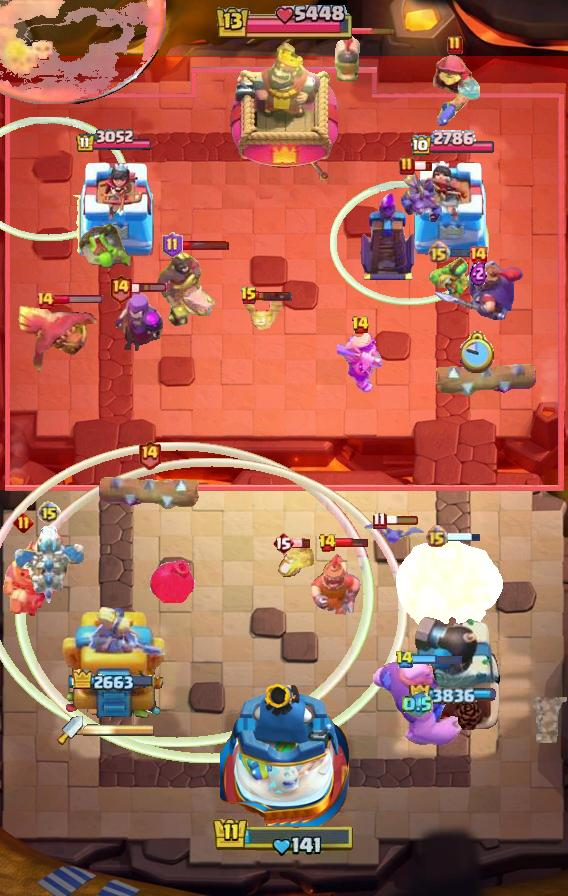arrows: (337, 330, 383, 394)
baby-dragon: (149, 557, 195, 602)
balloon: (370, 656, 464, 748)
bar: (60, 607, 168, 731)
bar-level: (77, 221, 135, 269)
barbarian: (361, 520, 425, 546)
clock: (212, 816, 356, 858), (213, 5, 355, 43)
earthquake: (311, 547, 363, 615)
electro-spirit: (402, 690, 433, 717), (469, 260, 486, 286)
elixir: (460, 331, 496, 373)
elixir-golem-big: (432, 259, 524, 323)
emote: (411, 653, 463, 666), (52, 294, 104, 305), (180, 241, 230, 252), (343, 25, 397, 35), (132, 282, 169, 294), (255, 290, 292, 302), (384, 514, 420, 526), (449, 246, 484, 258), (334, 537, 369, 549), (446, 530, 481, 541), (413, 160, 433, 172), (292, 539, 312, 550)
executioner: (332, 27, 362, 83)
fireball: (430, 53, 480, 129)
fisherman: (530, 697, 568, 743)
freeze: (156, 250, 218, 330)
giant-skeleton: (394, 534, 504, 628)
giant-snowball: (429, 257, 477, 301)
ice-spirit-evolution: (240, 297, 282, 331), (278, 548, 316, 578)
ice-spirit-evolution-symbol: (358, 190, 418, 282)
king-tower: (219, 678, 349, 826), (230, 43, 338, 181)
king-tower-bar: (83, 723, 155, 737)
mini-pekka: (12, 526, 86, 610)
minion: (435, 359, 538, 397), (99, 472, 202, 510)
mother-witch: (15, 298, 101, 382)
phoenix-egg: (0, 0, 166, 104)
queen-tower: (407, 158, 499, 256), (69, 158, 159, 256)
ram-rider: (0, 537, 62, 619)
rascal-girl: (110, 291, 164, 351)
royal-delivery: (399, 169, 443, 225)
selected: (410, 130, 496, 158), (72, 670, 156, 695), (75, 129, 153, 154), (409, 685, 497, 704)
text: (108, 273, 133, 304), (138, 438, 163, 469), (37, 501, 61, 525), (427, 240, 450, 264), (162, 232, 183, 258), (425, 524, 448, 547), (272, 531, 294, 555), (14, 511, 35, 532), (468, 245, 488, 265), (35, 290, 55, 310), (351, 315, 370, 335), (319, 533, 338, 553), (240, 286, 258, 306), (395, 651, 414, 669), (447, 35, 463, 55), (399, 156, 415, 176), (373, 511, 387, 529)
tower-bar: (402, 615, 504, 731)
